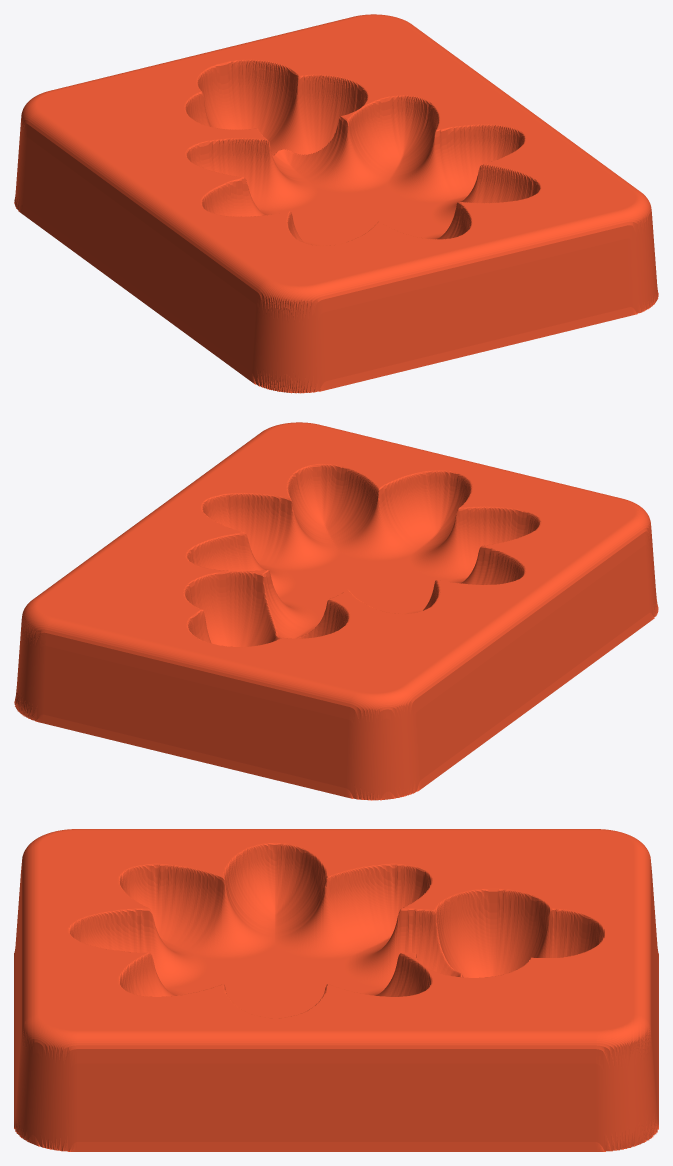
The model's file is mold.glb.
3 renders of one model, top to bottom at view 1: azimuth 30°, elevation 25°; view 2: azimuth 150°, elevation 25°; view 3: azimuth 270°, elevation 25°, orthographic. The views are drawn at different scales.
Parts seen in each view (by area): view 1: geometry_0; view 2: geometry_0; view 3: geometry_0.
Boxes of the visible parts, x1=… form: geometry_0: x1=14, y1=14, x2=658, y2=393; geometry_0: x1=14, y1=422, x2=658, y2=800; geometry_0: x1=14, y1=829, x2=658, y2=1151.
Size of the model in its own units: 0.075 by 0.0175 by 0.0924.
